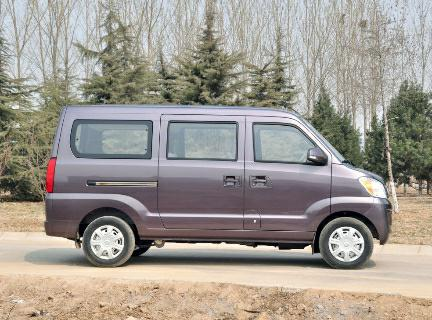东风-俊风CV03: (41, 100, 397, 274)
